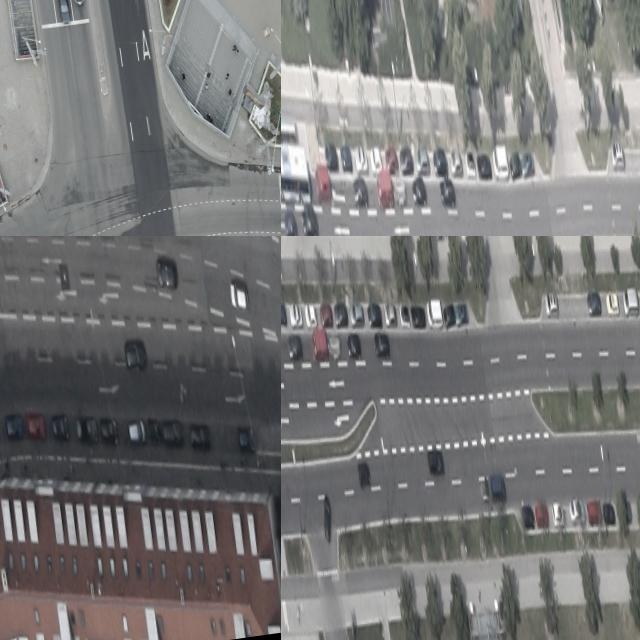UAI: (318, 493, 336, 545), (123, 337, 148, 372), (154, 256, 179, 291), (229, 280, 250, 315), (162, 417, 185, 448), (189, 420, 212, 451), (375, 173, 394, 209), (75, 415, 98, 444), (491, 145, 509, 181), (99, 415, 119, 447), (309, 328, 328, 361), (27, 411, 47, 442), (622, 285, 640, 319), (51, 412, 70, 443), (237, 424, 256, 455), (127, 417, 147, 446), (427, 448, 446, 478), (5, 414, 25, 442), (300, 207, 319, 236), (438, 177, 456, 207), (425, 298, 443, 328), (411, 177, 428, 208), (489, 474, 507, 503), (373, 331, 391, 360), (55, 0, 73, 28), (587, 0, 606, 26), (476, 153, 493, 182), (287, 334, 304, 363), (366, 301, 383, 330), (568, 497, 586, 524), (353, 178, 369, 208), (610, 142, 626, 172), (432, 148, 448, 178), (414, 146, 430, 176), (586, 499, 603, 526), (353, 144, 368, 174), (324, 141, 339, 171), (398, 147, 414, 175), (520, 502, 536, 530), (520, 150, 536, 177), (346, 332, 362, 359), (586, 290, 602, 317), (551, 498, 565, 528), (319, 300, 334, 328), (410, 303, 426, 329), (349, 303, 365, 329), (283, 209, 298, 236), (288, 301, 303, 328), (369, 148, 383, 176), (304, 301, 318, 329), (340, 143, 353, 173), (508, 152, 522, 179), (385, 147, 399, 174), (148, 417, 162, 444), (357, 461, 371, 488), (534, 502, 549, 527), (544, 292, 559, 317), (454, 301, 469, 326), (334, 302, 349, 327), (394, 179, 407, 206), (329, 335, 342, 362), (602, 500, 616, 525), (605, 290, 619, 315), (384, 303, 398, 328), (449, 152, 463, 176), (443, 303, 456, 328), (398, 303, 410, 328), (465, 152, 476, 178), (480, 480, 491, 503), (281, 298, 287, 326)
car: (281, 136, 312, 207)
harvester: (313, 163, 333, 205)
